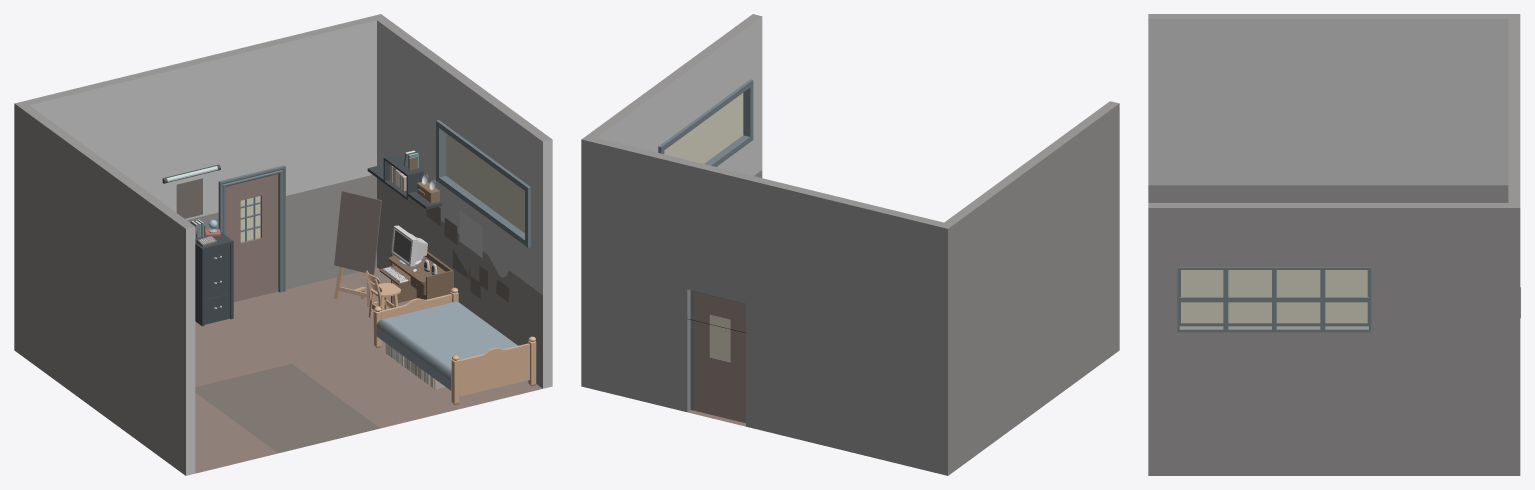
Rendered from room.glb.
3 renders of one model, left to right at view 1: azimuth 30°, elevation 25°; view 2: azimuth 150°, elevation 25°; view 3: azimuth 270°, elevation 25°, orthographic. The views are drawn at different scales.
Visible parts, largest first — view 1: Compone160, Componen16, Group3, Componen42, Componen34, Componen14, Componen41, Mesh10, Compone210, Componen36, Compone205, Group10 (+6 smaller); view 2: Compone160, Componen42, Group3, Componen44, Componen41; view 3: Compone160, Group3.
Part boxes in pixels (x1,y1,x2,y2): Compone160: [14, 14, 552, 475]; Componen16: [376, 301, 517, 390]; Group3: [436, 120, 530, 247]; Componen42: [225, 174, 278, 302]; Componen34: [334, 191, 381, 274]; Componen14: [459, 343, 529, 396]; Componen41: [218, 165, 285, 292]; Mesh10: [195, 229, 233, 326]; Compone210: [367, 153, 442, 209]; Componen36: [391, 251, 453, 304]; Compone205: [391, 225, 427, 266]; Group10: [459, 210, 482, 257]; Compone160: [581, 14, 1119, 475]; Componen42: [693, 292, 745, 423]; Group3: [658, 79, 753, 166]; Componen44: [710, 314, 730, 361]; Componen41: [690, 290, 745, 410]; Compone160: [1148, 14, 1520, 475]; Group3: [1177, 267, 1371, 332].
Size of what is drawn, in the model's own units: 0.618 by 0.3965 by 0.4985.
